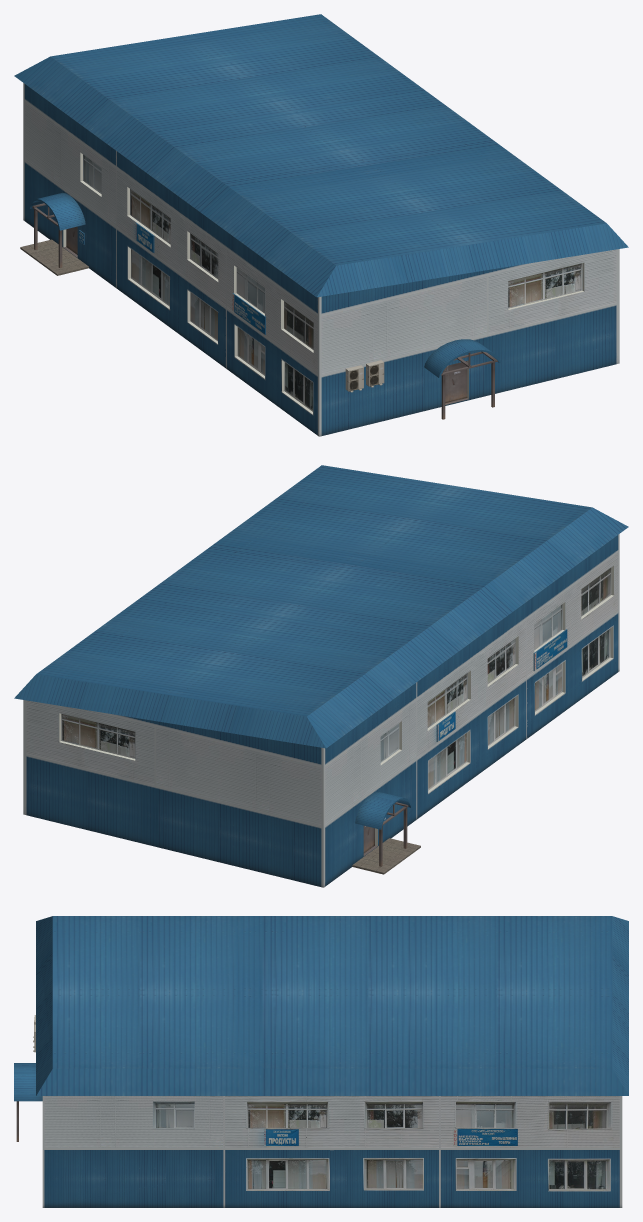
File: Magazin_besplatno.fbx
3 views of the same model, one above another, from view 1: azimuth 30°, elevation 25°; view 2: azimuth 150°, elevation 25°; view 3: azimuth 270°, elevation 25° (orthographic). The views are drawn at different scales.
Parts seen in each view (by area): view 1: Box014; view 2: Box014; view 3: Box014.
Boxes of the visible parts, left/top/right/bottom form: Box014: left=14, top=14, right=628, bottom=436; Box014: left=14, top=465, right=628, bottom=887; Box014: left=14, top=916, right=628, bottom=1207.
Bounding box in the file's own units: 21.05 × 9.65 × 33.87.
Materials: 1 (1 with a texture image).
